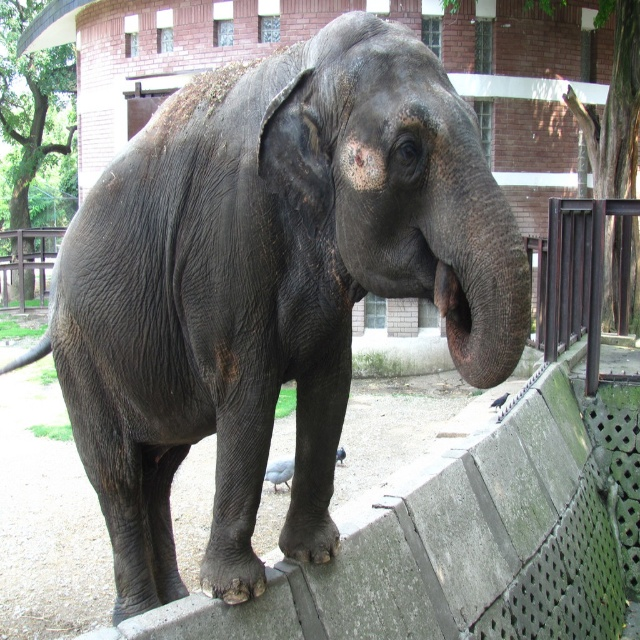Elephant: (25, 21, 515, 618)
